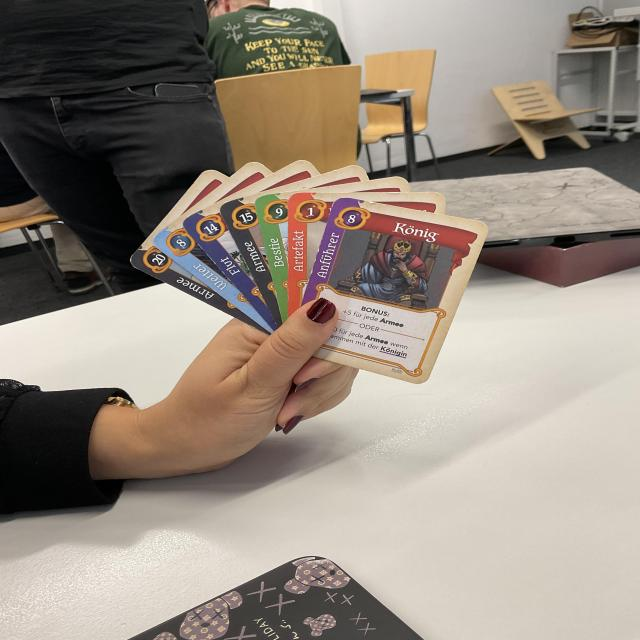Dwarvish Infantry: (218, 194, 284, 327)
Island: (180, 203, 279, 331)
King: (301, 195, 492, 387)
Knights: (128, 238, 271, 335)
Rainstorm: (150, 220, 277, 335)
Rune Of Protection: (287, 192, 337, 317)
Unicorn: (256, 192, 290, 324)
